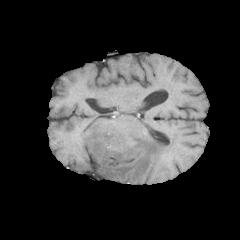glioma: (81, 122, 186, 181)
